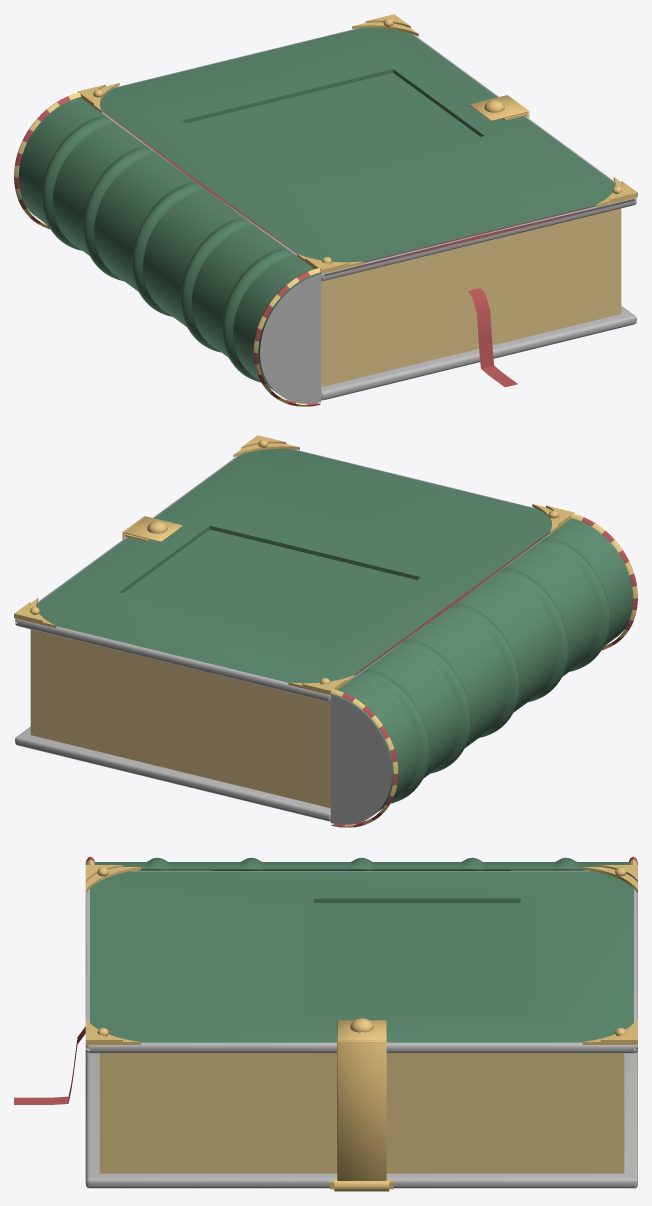
Rendered from book.glb.
3 renders of one model, top to bottom at view 1: azimuth 30°, elevation 25°; view 2: azimuth 150°, elevation 25°; view 3: azimuth 270°, elevation 25°, orthographic. The views are drawn at different scales.
Parts seen in each view (by area): view 1: base, cover, strap_mesh; view 2: base, cover, strap_mesh; view 3: cover, base, strap_mesh.
Part boxes in pixels (x1,y1,x2,y2): base: (14,92,636,406); cover: (77,14,637,280); strap_mesh: (469,95,529,121); base: (15,513,637,827); cover: (14,435,574,701); strap_mesh: (122,516,182,542); cover: (85,865,637,1053); base: (14,856,637,1191); strap_mesh: (337,1018,386,1180).
Bounding box in the file's own units: 0.3685 × 0.1303 × 0.452.
